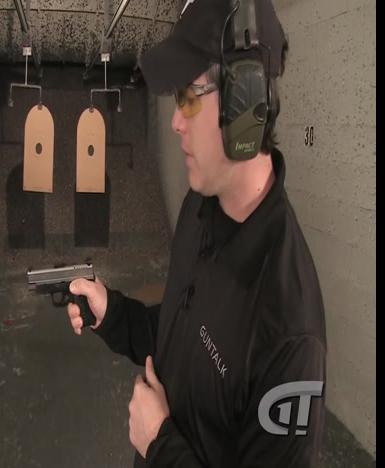pistol: (24, 259, 99, 332)
